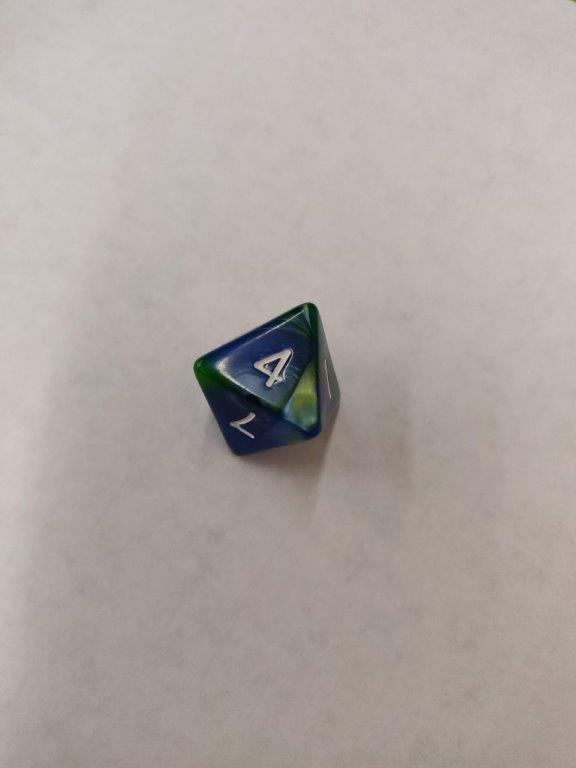d8-4: (194, 300, 343, 457)
